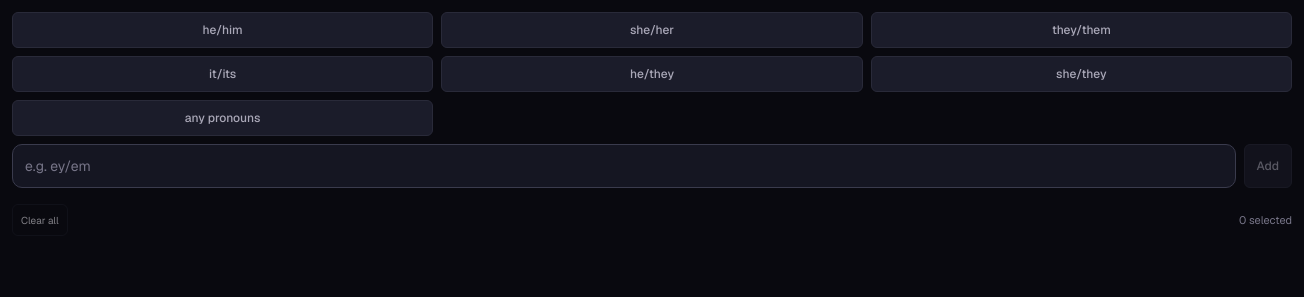
Scenario: PronounsPicker › supports multiple pronoun selections
Click the button "he/him". click: [223, 30]
box: [12, 12, 433, 48]
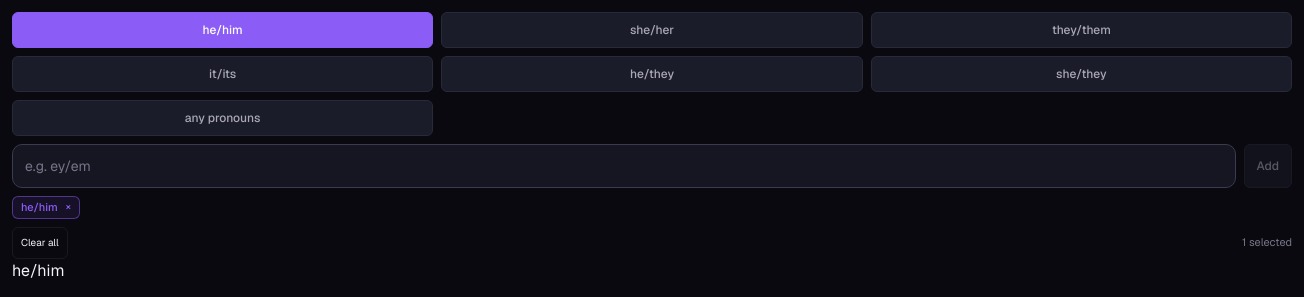
Click the button "they/them". click: [1081, 30]
box: [871, 12, 1292, 48]
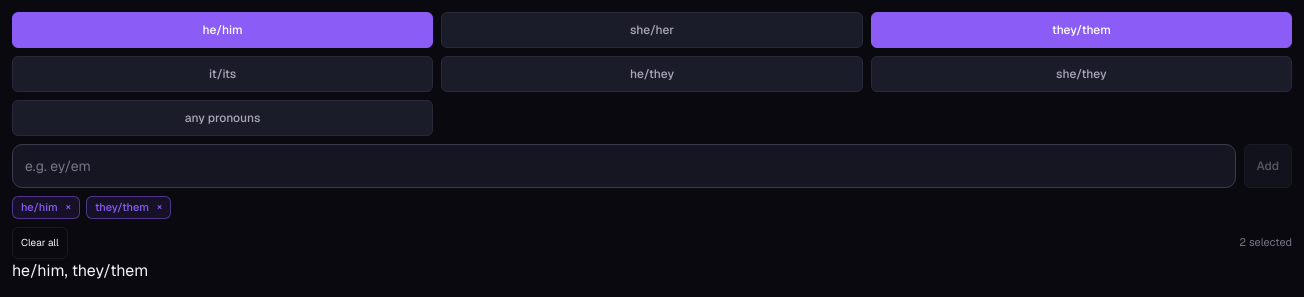
Check: the text with test id "serialized" reads "he/him, they/them", box [12, 260, 148, 280]
